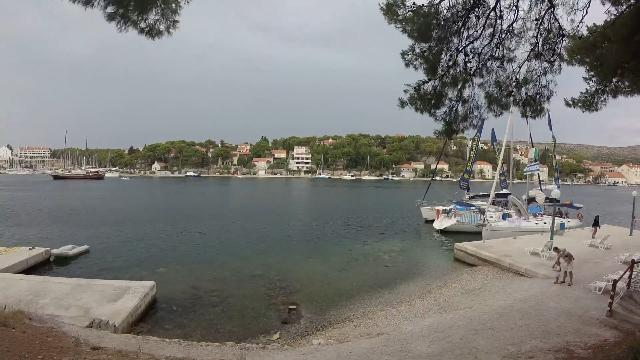Freighter: (40, 166, 114, 184)
